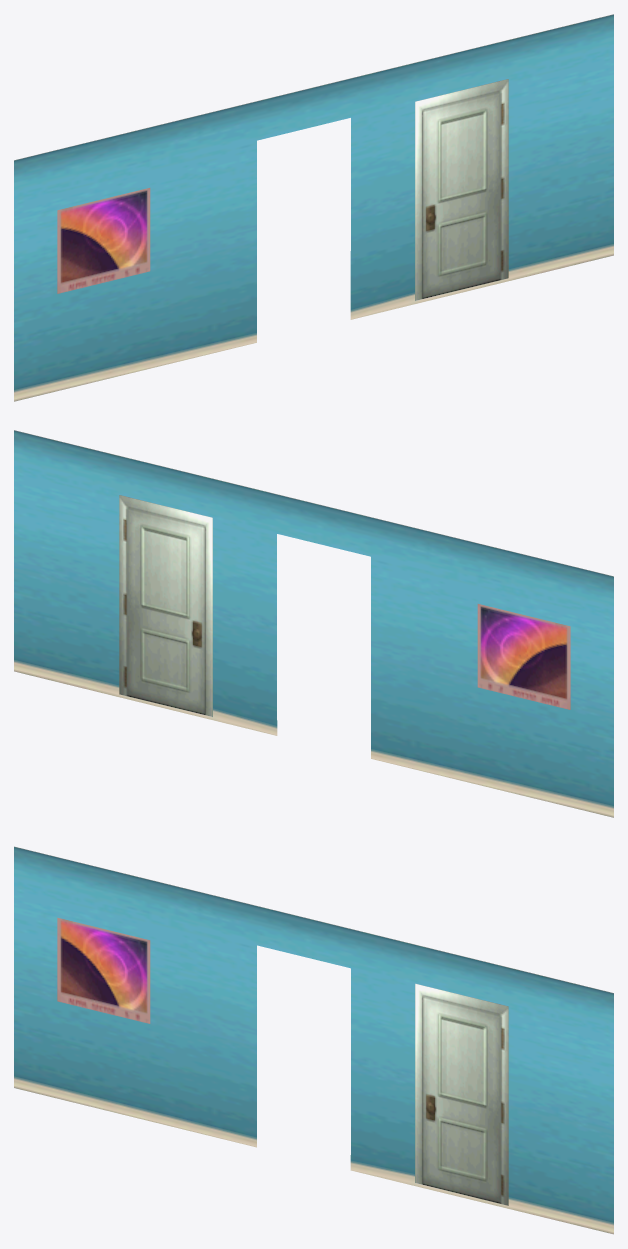
3 views of the same model, one above another, from view 1: azimuth 30°, elevation 25°; view 2: azimuth 150°, elevation 25°; view 3: azimuth 330°, elevation 25° (orthographic).
Visible parts, largest first — view 1: Rectangle02; view 2: Rectangle02; view 3: Rectangle02.
Boxes of the visible parts, x1,y1,x2,y2 form: Rectangle02: (14, 14, 613, 401); Rectangle02: (14, 430, 613, 817); Rectangle02: (14, 846, 613, 1234).
Size of the model in its own units: 1631 by 628 by 0.3562.
3 materials, 3 textured.
